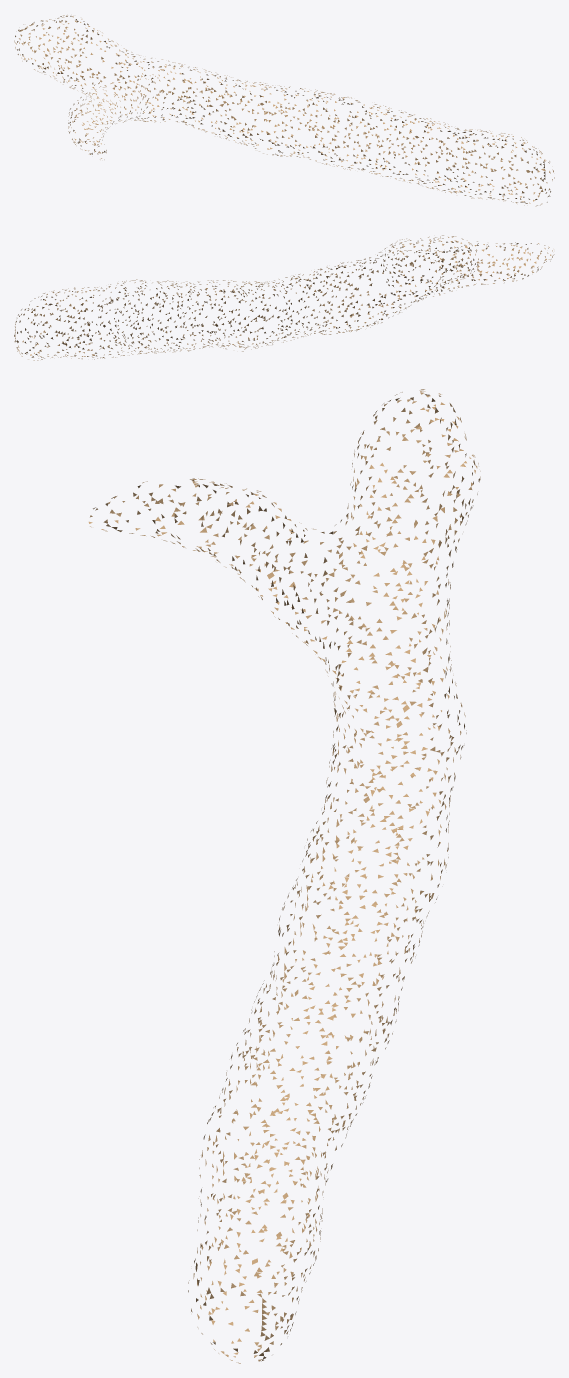
The model's file is morph_006.glb.
The picture shows the model from 3 angles, top to bottom: view 1: azimuth 30°, elevation 25°; view 2: azimuth 150°, elevation 25°; view 3: azimuth 270°, elevation 25°; orthographic projection. The views are drawn at different scales.
Bounding box in the file's own units: 134 × 67.52 × 46.23.
